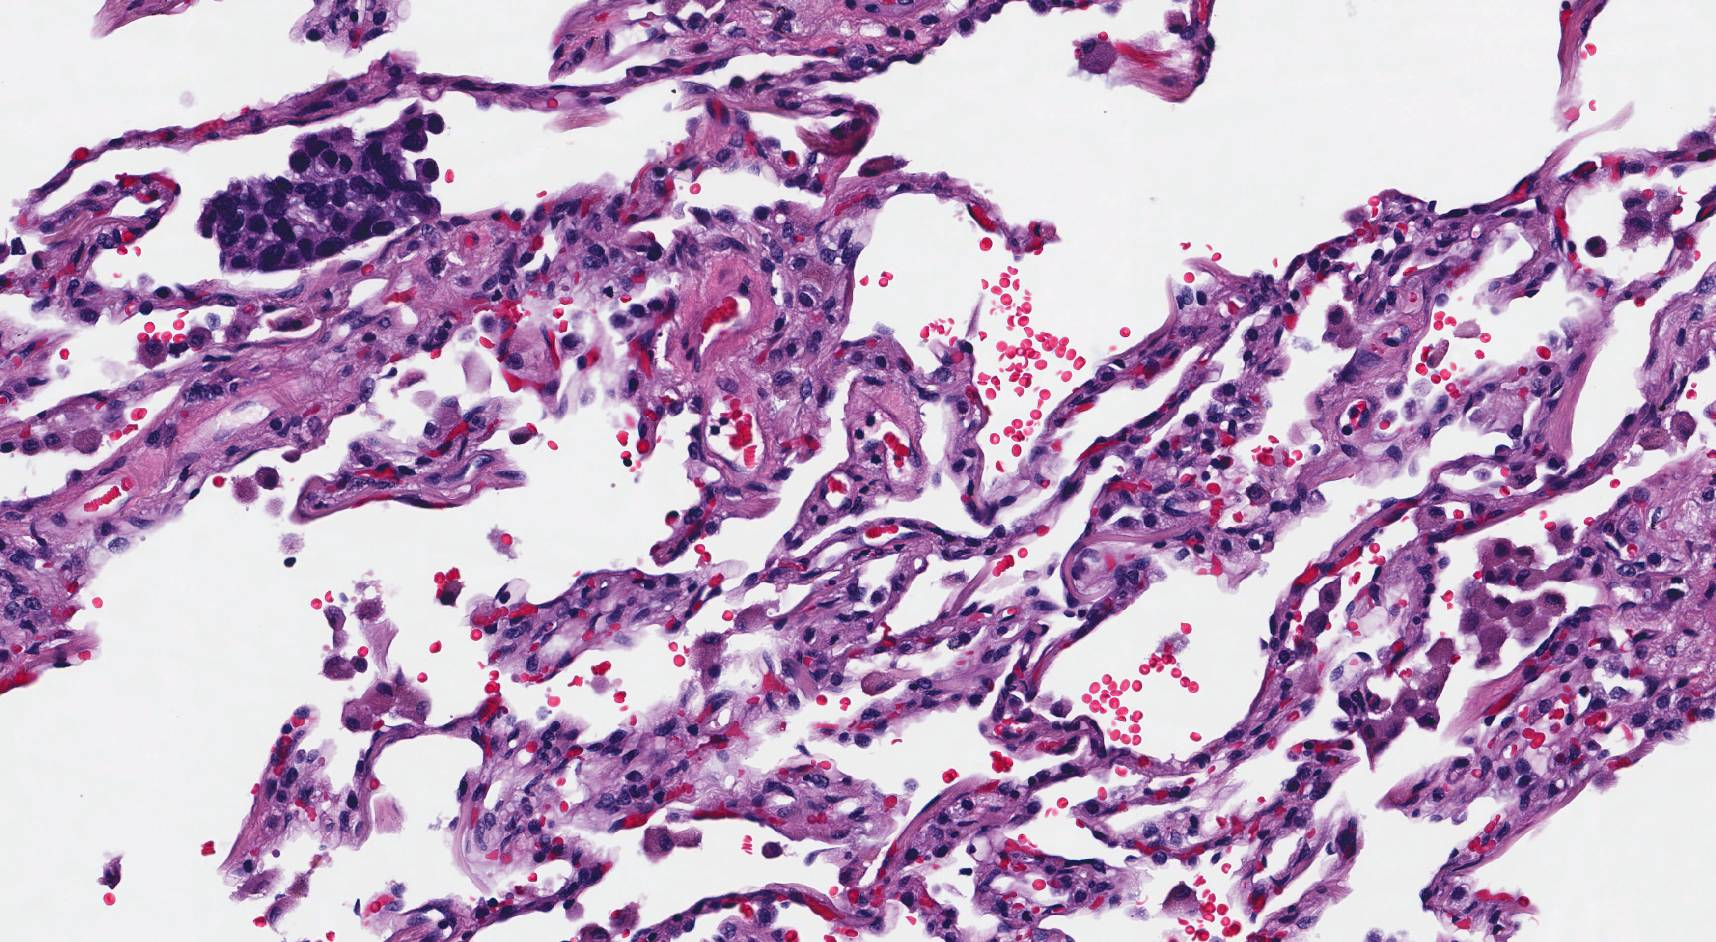stas: (195, 105, 444, 276)
